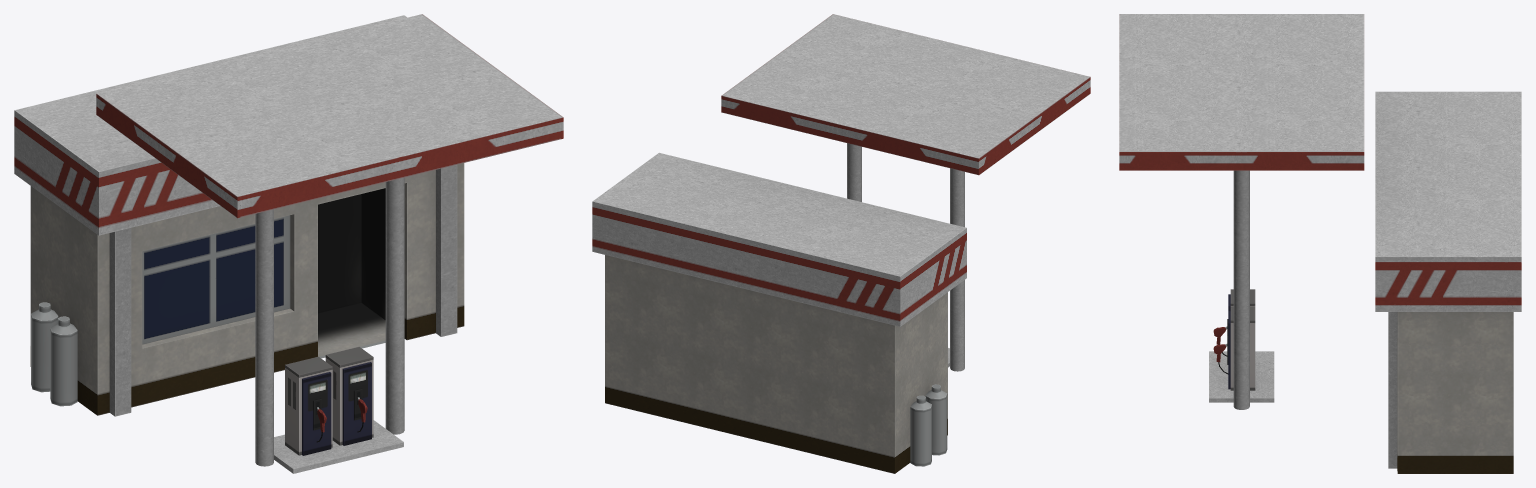
The model's file is sb_obj_ModernCity012_store_c.fbx.
3 views of the same model, side by side, from view 1: azimuth 30°, elevation 25°; view 2: azimuth 150°, elevation 25°; view 3: azimuth 270°, elevation 25° (orthographic). The views are drawn at different scales.
Visible parts, largest first — view 1: sb_obj_ModernCity012_store_c; view 2: sb_obj_ModernCity012_store_c; view 3: sb_obj_ModernCity012_store_c.
Part boxes in pixels (x1,y1,x2,y2): sb_obj_ModernCity012_store_c: [14, 14, 563, 473]; sb_obj_ModernCity012_store_c: [592, 14, 1090, 473]; sb_obj_ModernCity012_store_c: [1119, 14, 1521, 473].
Size of the model in its own units: 4.91 by 4 by 4.93.
